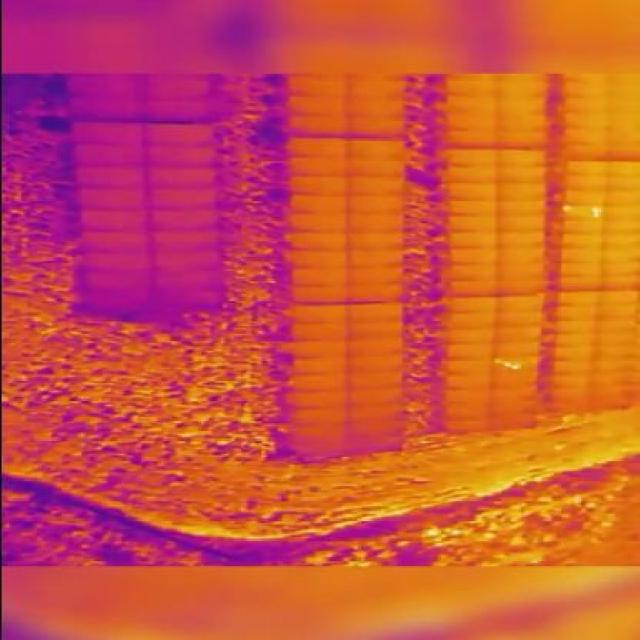panel: (63, 92, 145, 122), (65, 118, 145, 145), (67, 141, 147, 168), (141, 95, 216, 122), (72, 186, 149, 212), (74, 207, 151, 233), (76, 229, 154, 254), (76, 249, 154, 274), (142, 121, 220, 146), (146, 185, 219, 211), (145, 163, 218, 189), (78, 268, 156, 292), (77, 288, 155, 312), (69, 165, 146, 189), (150, 248, 222, 273), (150, 228, 222, 253), (148, 207, 220, 232), (144, 143, 219, 167), (282, 112, 348, 138), (285, 135, 349, 159), (285, 154, 349, 178), (285, 173, 349, 197), (285, 74, 351, 97), (283, 93, 349, 116), (285, 211, 349, 233), (285, 230, 349, 252), (286, 193, 349, 215), (287, 266, 349, 288), (345, 210, 405, 232), (347, 174, 406, 196), (347, 157, 406, 179), (347, 138, 406, 160), (347, 114, 406, 136), (287, 283, 348, 304), (288, 302, 349, 323), (287, 322, 348, 343), (288, 338, 349, 359), (289, 355, 350, 376), (289, 371, 350, 392), (288, 387, 349, 408), (289, 406, 350, 427), (346, 282, 406, 303), (346, 246, 406, 267), (346, 230, 406, 251), (286, 249, 348, 269), (346, 265, 405, 286), (346, 193, 405, 214), (347, 385, 406, 405), (348, 369, 407, 389), (347, 97, 406, 117), (496, 77, 549, 99), (347, 403, 405, 423), (444, 75, 499, 96), (444, 92, 499, 113), (444, 111, 499, 132), (443, 127, 498, 148), (444, 146, 499, 167), (444, 163, 499, 184), (444, 180, 499, 201), (348, 352, 405, 372), (348, 335, 405, 355), (348, 319, 405, 339), (347, 302, 404, 322), (445, 197, 500, 217), (444, 213, 499, 233), (445, 229, 500, 249), (445, 245, 500, 265), (445, 262, 500, 282), (444, 278, 499, 298), (444, 295, 499, 315), (495, 129, 549, 149), (497, 163, 548, 184), (497, 180, 548, 201), (444, 310, 500, 329), (496, 95, 549, 115), (496, 112, 549, 132), (497, 244, 547, 265), (497, 262, 547, 283), (497, 147, 549, 167), (443, 326, 497, 345), (442, 342, 496, 361), (496, 293, 546, 313), (497, 197, 547, 216), (497, 213, 547, 232), (497, 229, 547, 248), (497, 277, 547, 296), (442, 357, 494, 375), (441, 373, 493, 391), (496, 310, 544, 328), (495, 325, 541, 343), (494, 339, 540, 357), (563, 159, 609, 177), (559, 246, 604, 264), (563, 187, 607, 205), (561, 203, 605, 221), (560, 231, 604, 249), (559, 216, 605, 233), (557, 289, 603, 306), (556, 303, 602, 320), (556, 317, 602, 334), (553, 345, 599, 362), (552, 359, 598, 376), (552, 373, 598, 390), (564, 174, 609, 191), (558, 261, 605, 277), (558, 275, 605, 291), (554, 331, 600, 347)
